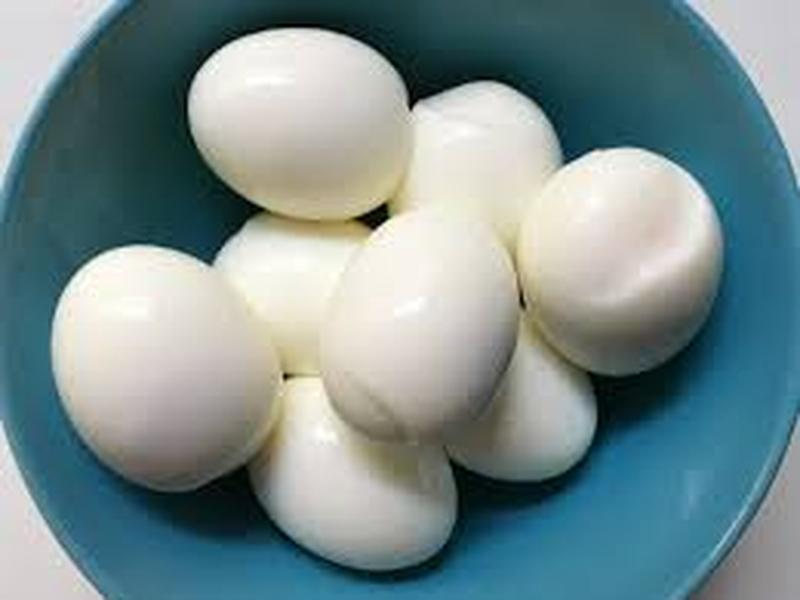egg: (48, 18, 755, 585)
